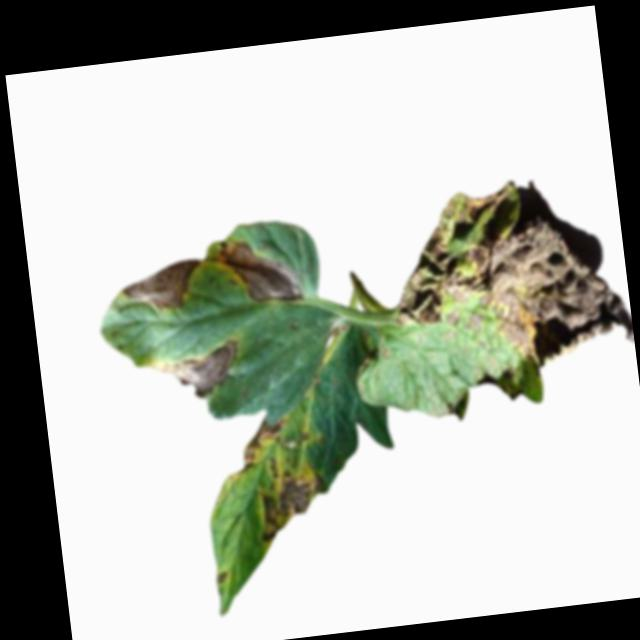Early_blight: (381, 168, 637, 390), (253, 459, 335, 547), (214, 235, 303, 311), (154, 337, 245, 406), (119, 258, 207, 316), (236, 418, 292, 470), (214, 569, 231, 587)
